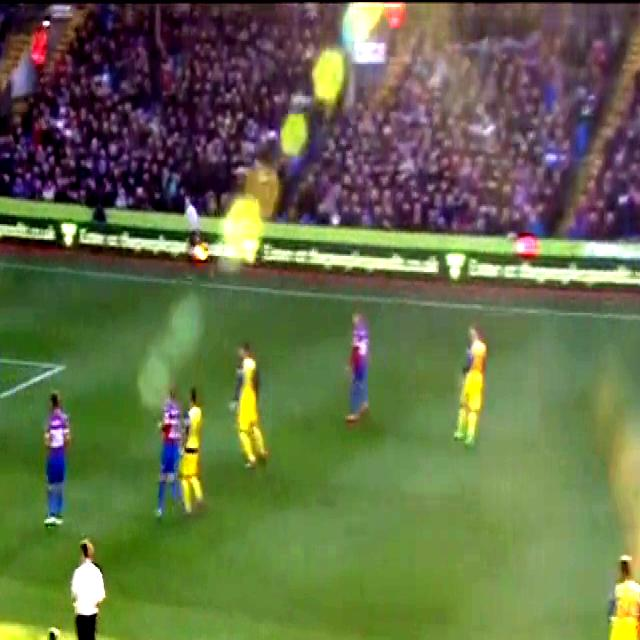referee: (57, 538, 112, 640)
soccer-player: (29, 388, 86, 536), (220, 340, 278, 479), (447, 326, 499, 458), (331, 306, 382, 432), (183, 380, 213, 526), (604, 549, 640, 640), (0, 318, 8, 443), (27, 626, 85, 640)
